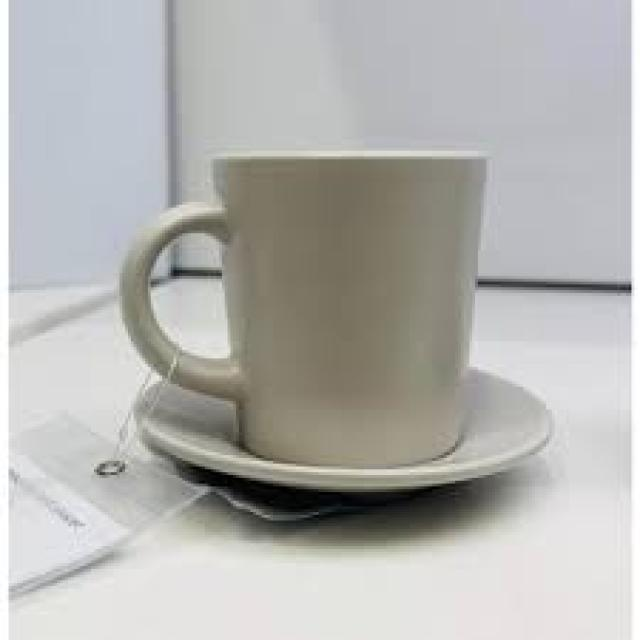taza: (117, 150, 491, 468)
